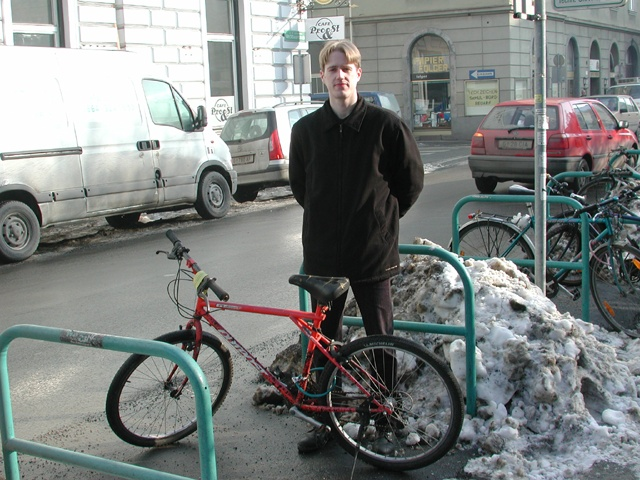person: (289, 38, 404, 453)
